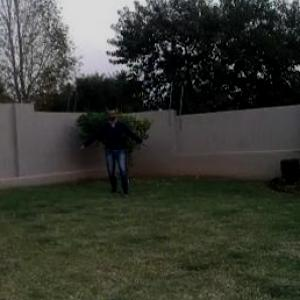land: (71, 97, 148, 200)
